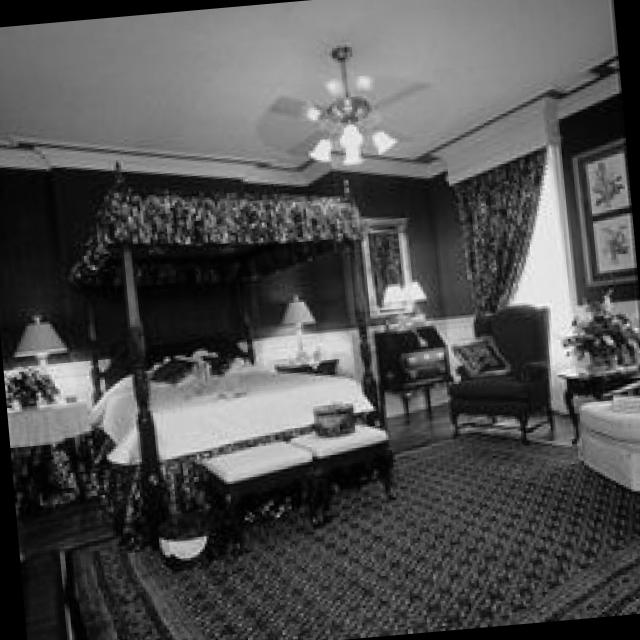2001: (464, 152, 574, 362)
armchair crop: (451, 301, 561, 442)
bed -occluded-: (69, 179, 389, 541)
bouquet: (563, 297, 640, 368), (11, 366, 67, 410)
cabinet door: (376, 320, 455, 427)
ceiling lamps: (307, 39, 399, 161)
curtain crop: (456, 144, 551, 309)
lamp crop: (14, 316, 77, 367), (280, 296, 322, 355)
lamps: (384, 281, 436, 304)
night stand: (278, 350, 343, 366)
night stand cabinet: (10, 398, 99, 507)
ottoman: (199, 433, 324, 540), (295, 419, 397, 523), (577, 390, 640, 488)
painting crop: (572, 140, 638, 287), (361, 212, 417, 315)
pillow occluded: (195, 334, 252, 367), (462, 333, 512, 369), (149, 355, 200, 380)
rug -partially obscured-: (59, 426, 640, 640)
small table part: (562, 360, 640, 436)
